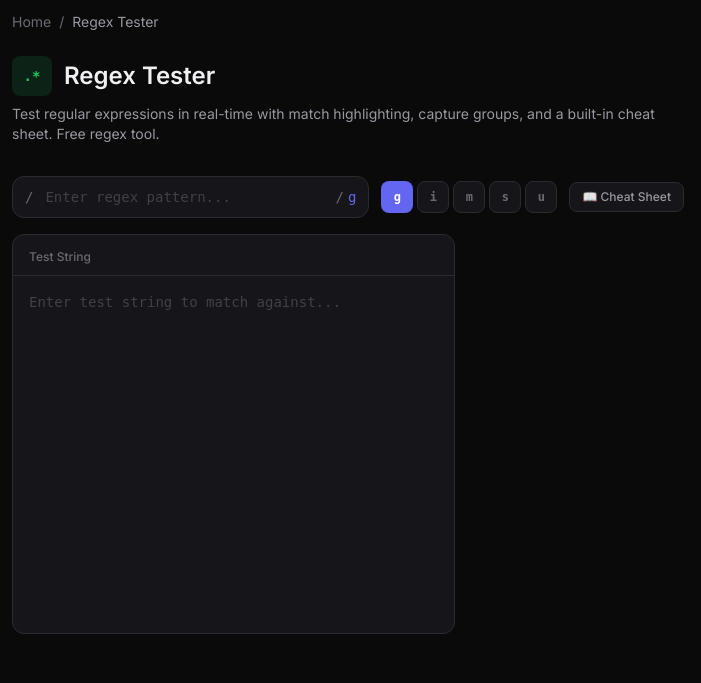
Test: RegexTester › shows match count for valid regex
Type "\\d+" into the field with placeholder "Enter regex pattern..." at (188, 197), box [45, 177, 332, 217]
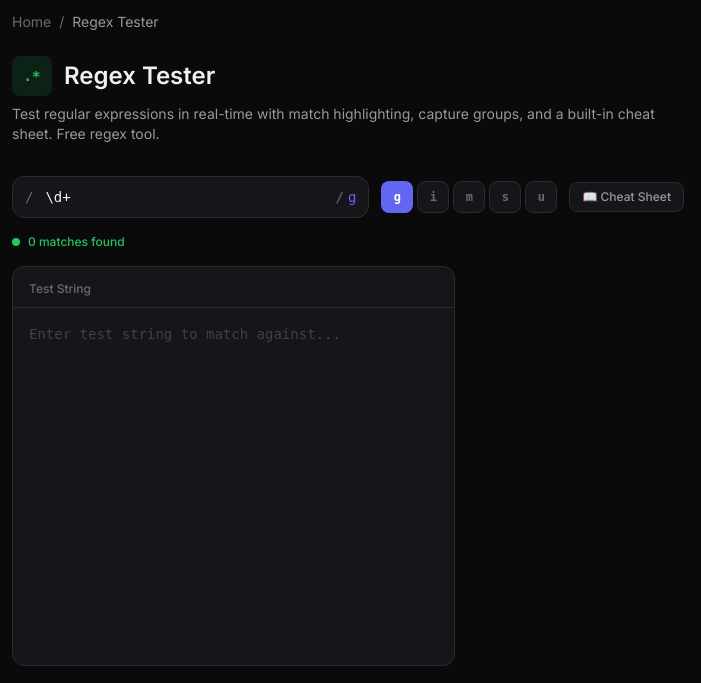
Type "abc123def456" into the text box with placeholder "Enter test string to match against..." at (233, 486), box [13, 308, 454, 665]
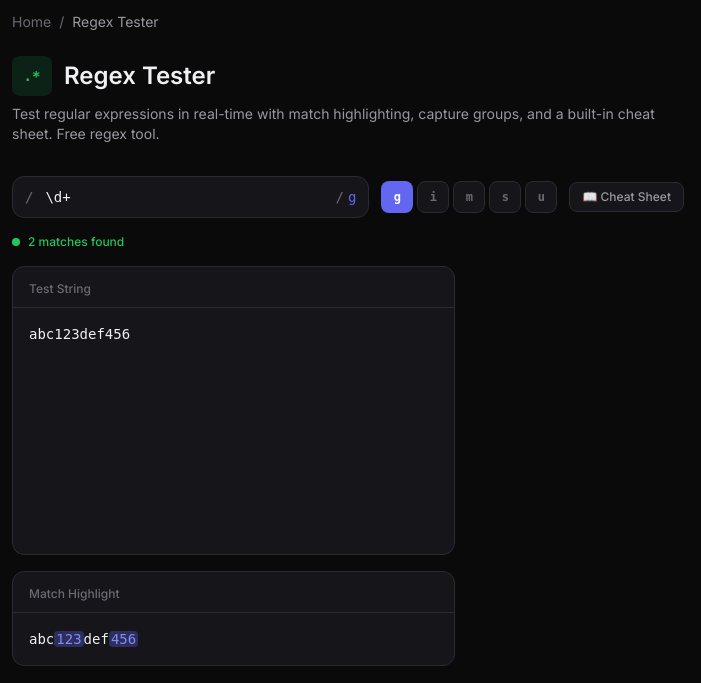
Expected: the text "2 matches found" is shown, [12, 234, 124, 249]
